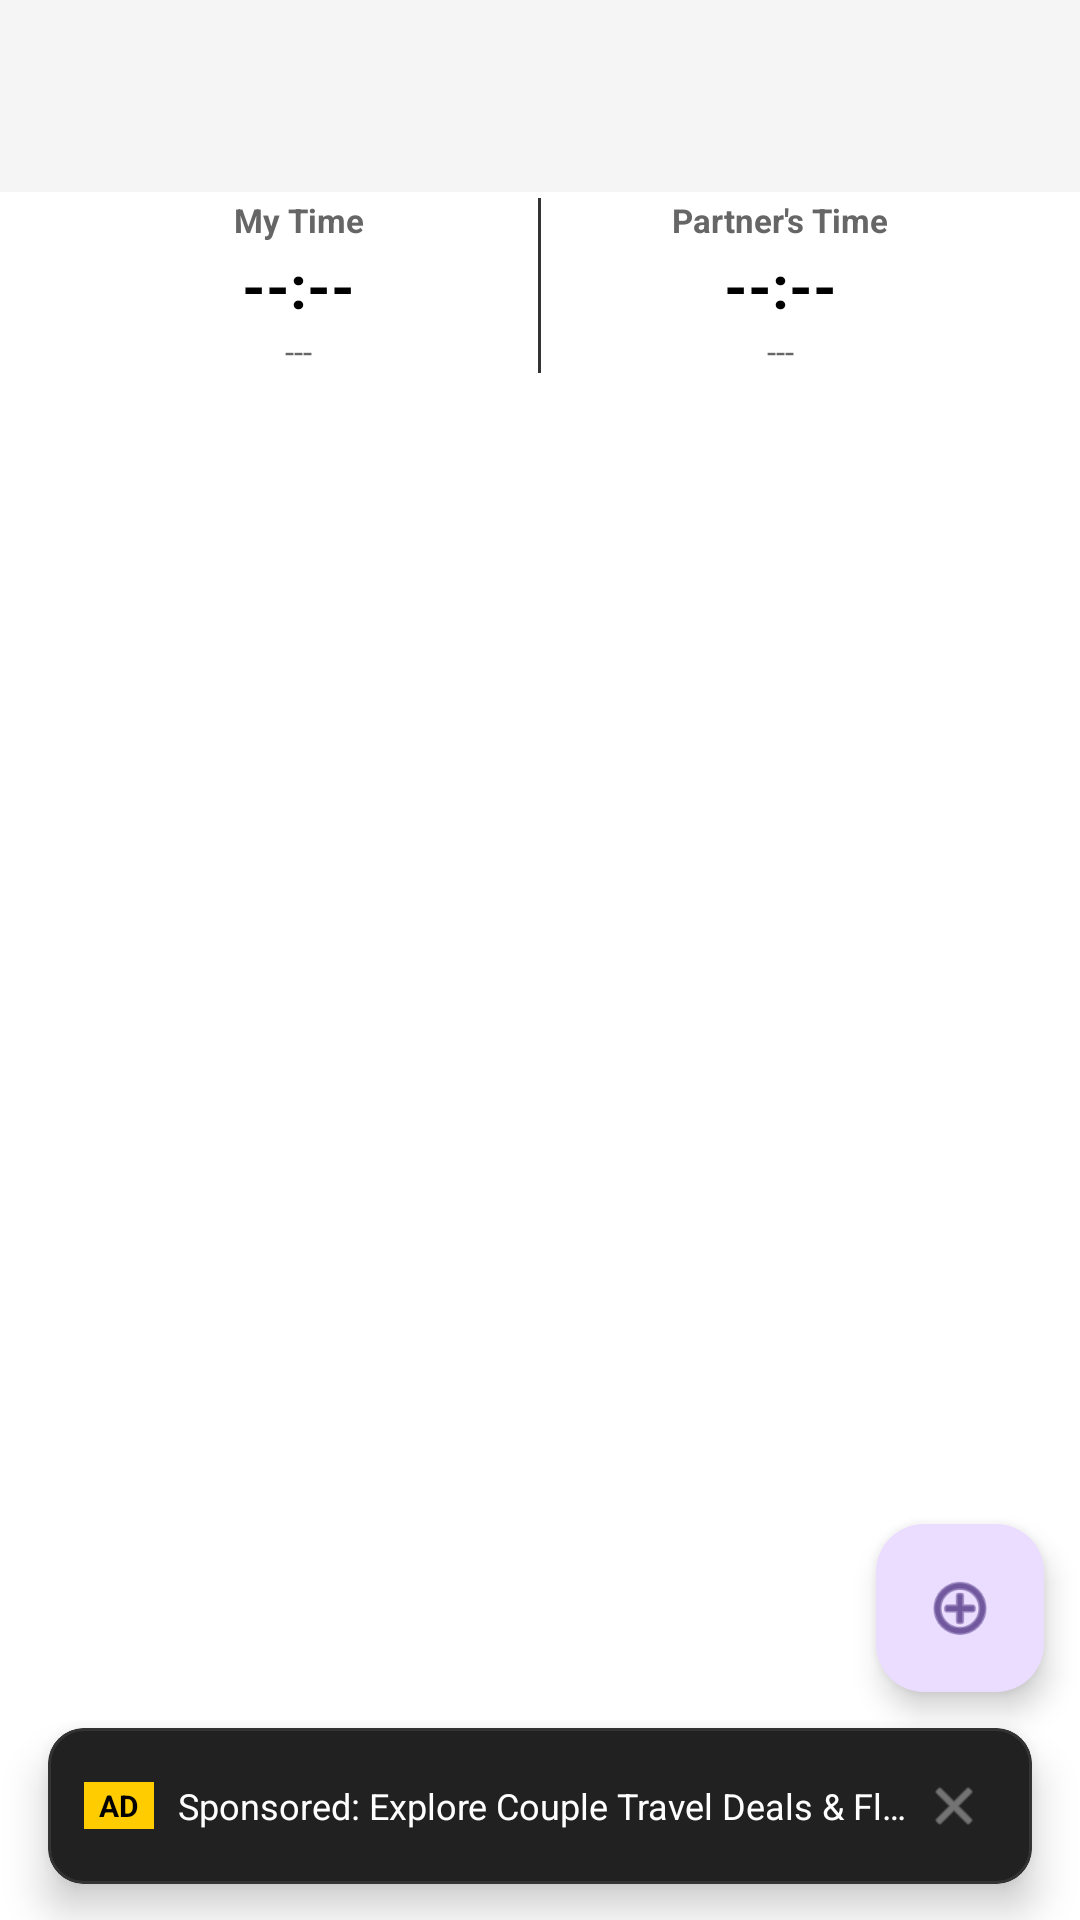

Icons on this 1080w x 1920h Android screen, each with its box as (x1, y1, x2, y2):
Add flight: (876, 1524, 1044, 1692)
Close Ad: (935, 1787, 973, 1825)
